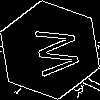W: (25, 25, 81, 79)
